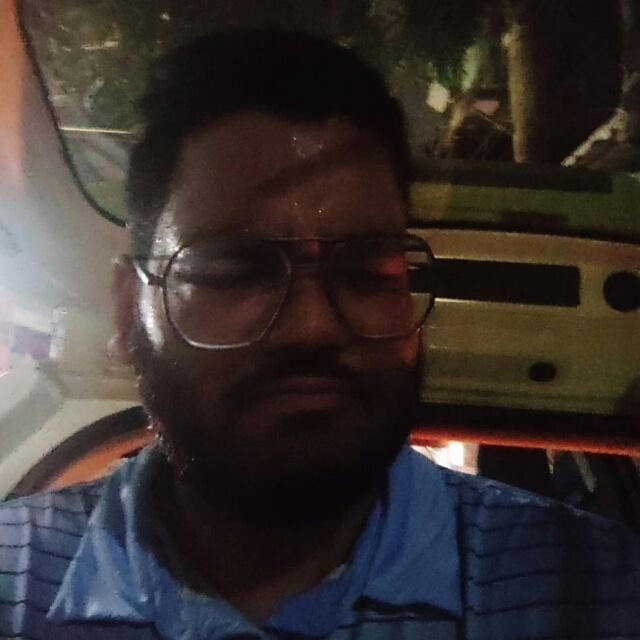Disgust: (104, 95, 445, 537)
